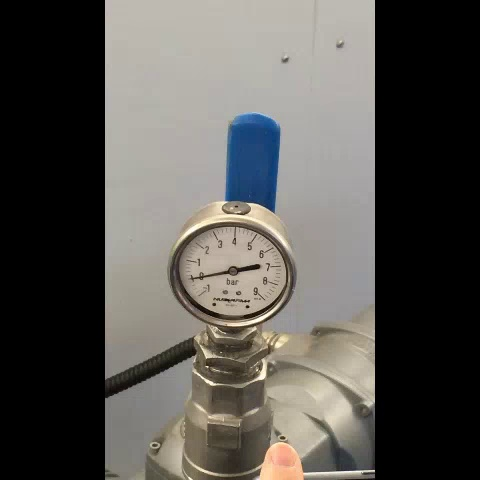Round_Meter: (174, 222, 291, 323)
